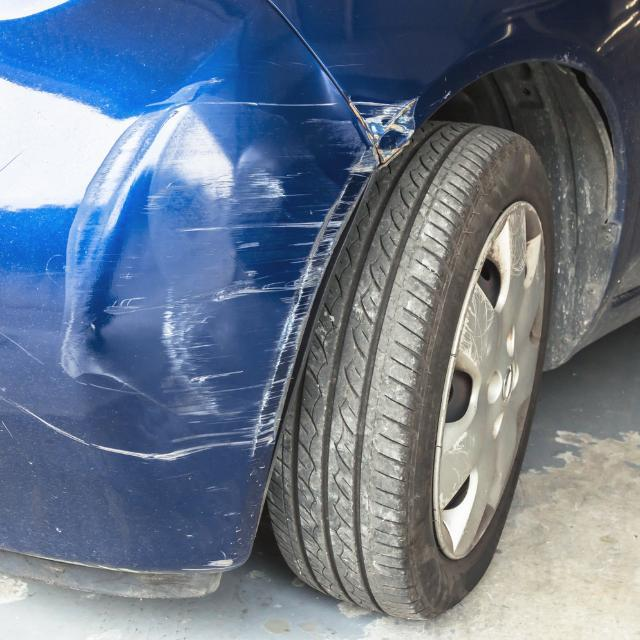Bumper: (35, 56, 320, 502)
Fender: (346, 26, 440, 184)
